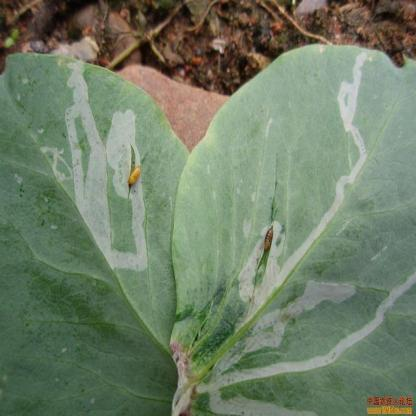whorl-maggot: (124, 164, 146, 193), (262, 224, 276, 258)
